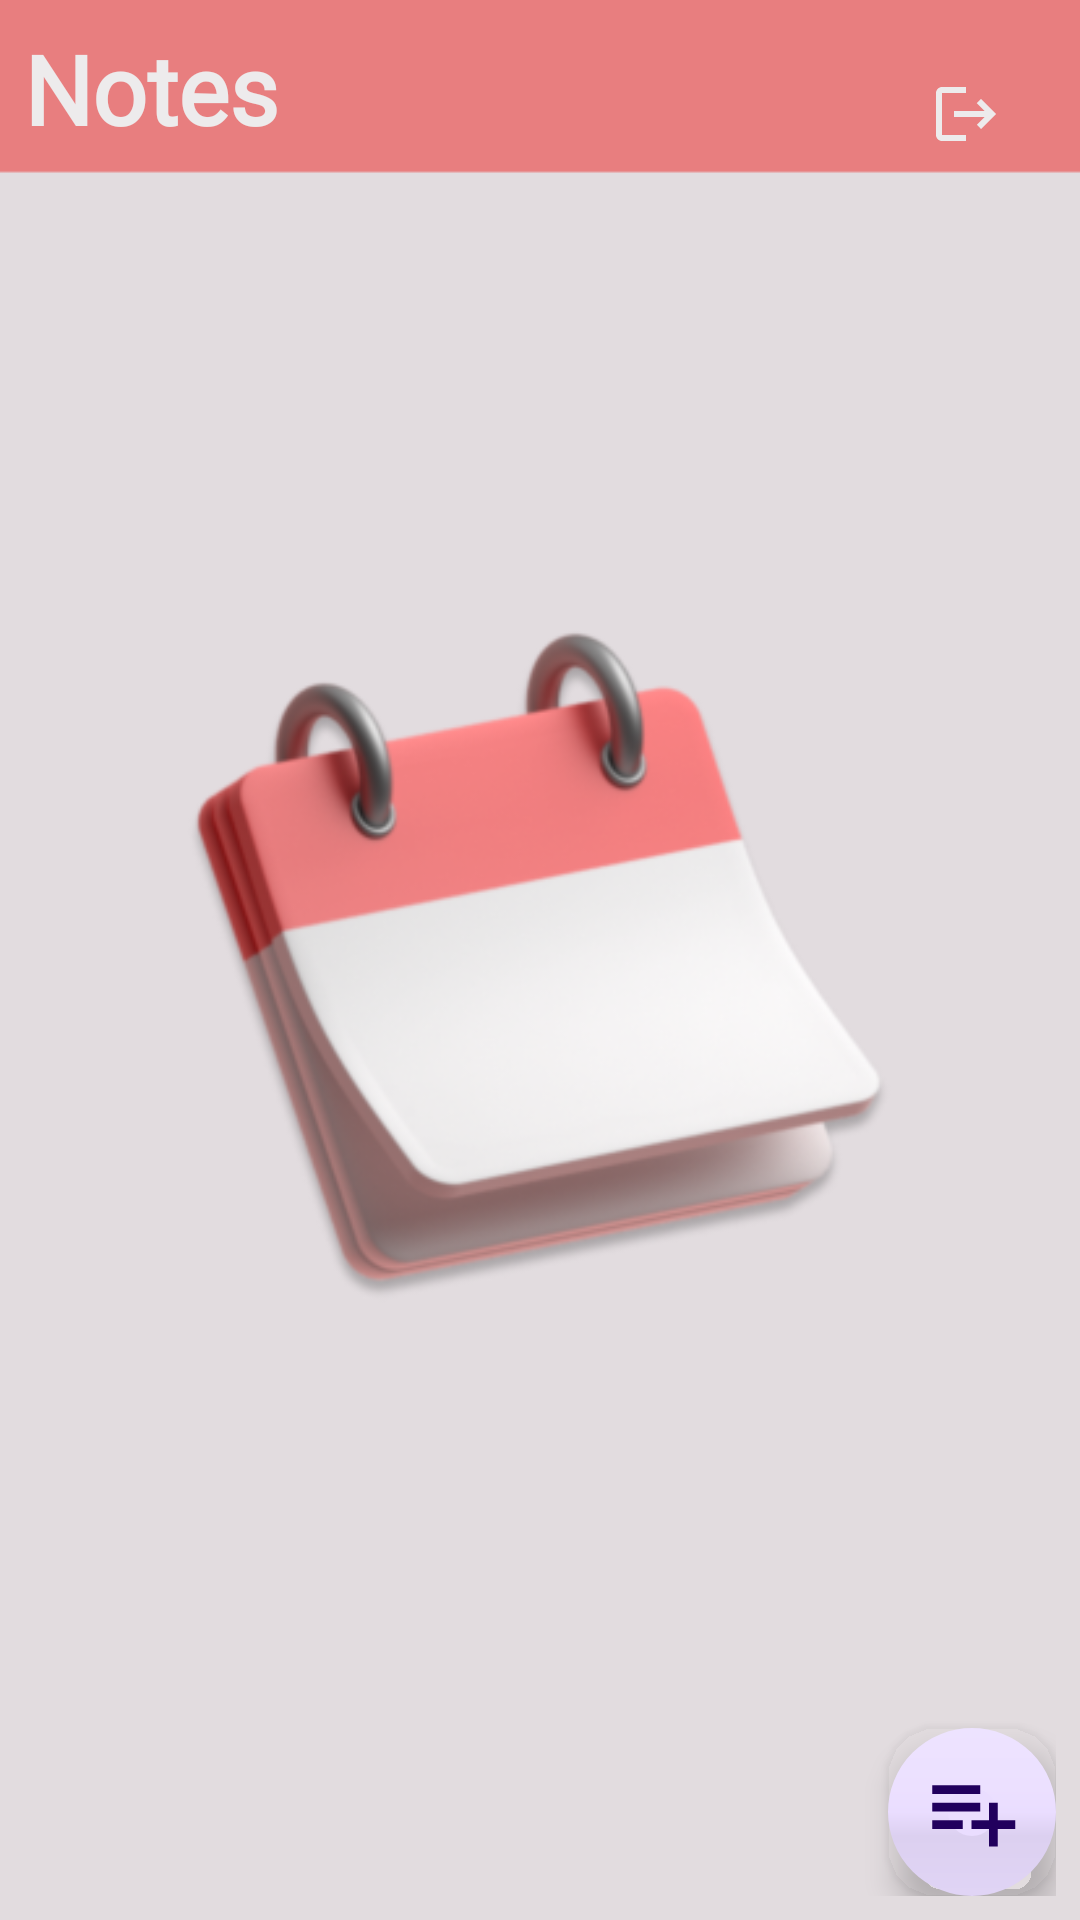

Icon click points for this 1080px×1920px phone screenshot, format point (x, y):
playlist add: point (972, 1812)
